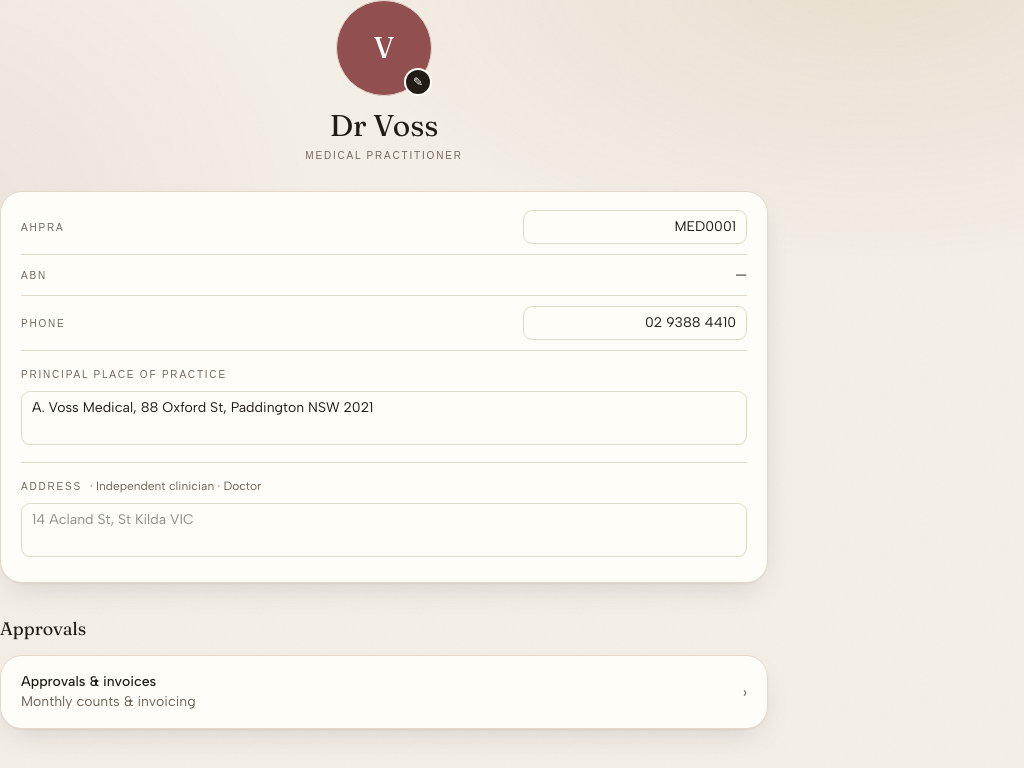
it: A required contact field cannot be cleared › refuses to save a doctor's cleared phone, and explains the consequence
Clear the field labelled "Phone" at coordinates (635, 323), box x1=523 y1=306 x2=747 y2=340
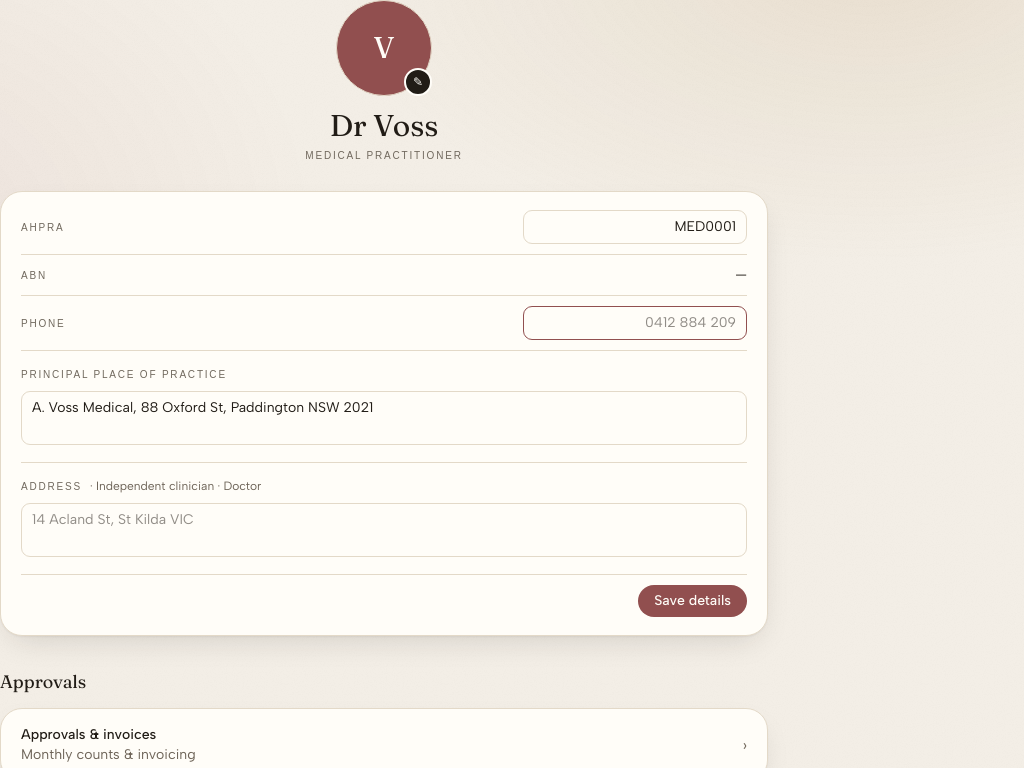
Click the button "Save details" at coordinates (693, 601), box x1=638 y1=585 x2=747 y2=617
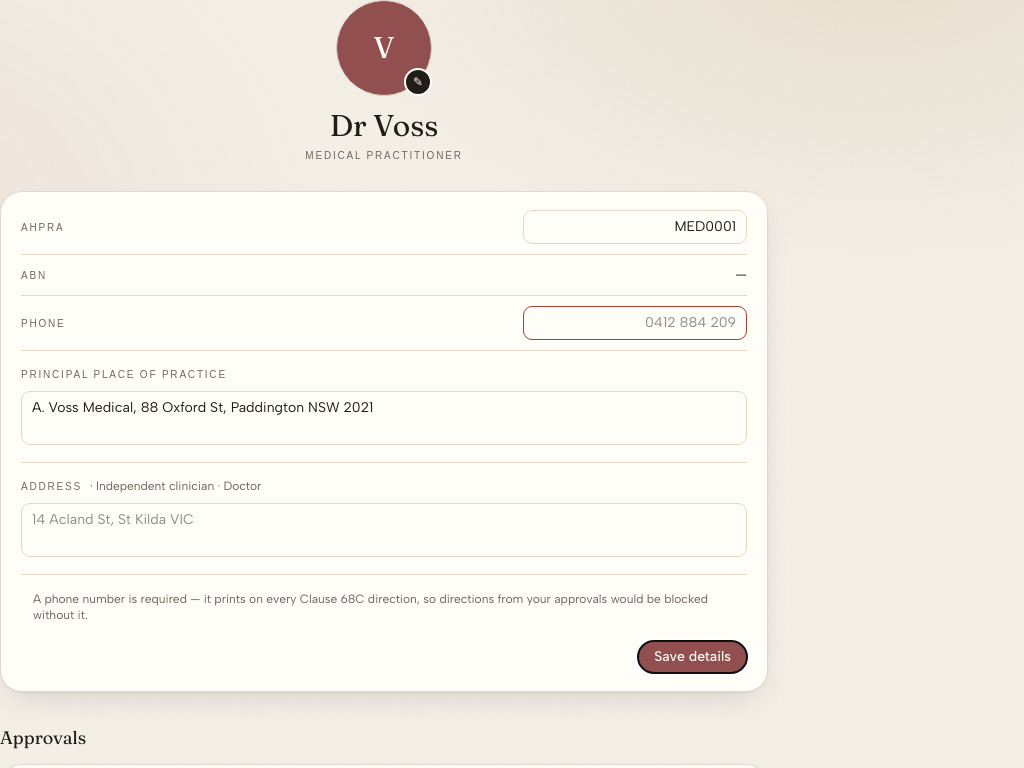
Result: the message shows "direction" at x1=33 y1=592 x2=708 y2=622
